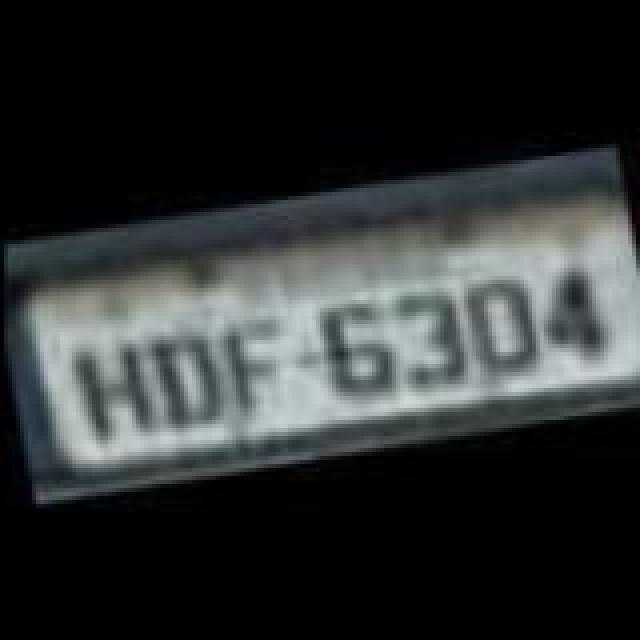3: (382, 278, 474, 390)
4: (524, 252, 620, 368)
6: (310, 292, 402, 396)
D: (150, 322, 226, 430)
F: (212, 308, 292, 412)
H: (58, 334, 154, 446)
O: (454, 272, 546, 380)
